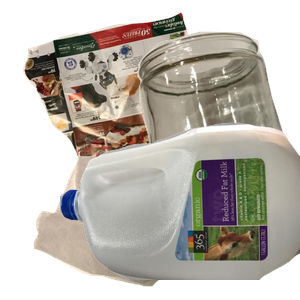glass: (135, 29, 300, 209)
paper: (20, 10, 231, 190)
plastic: (60, 120, 300, 300)
trash: (31, 149, 268, 300)
